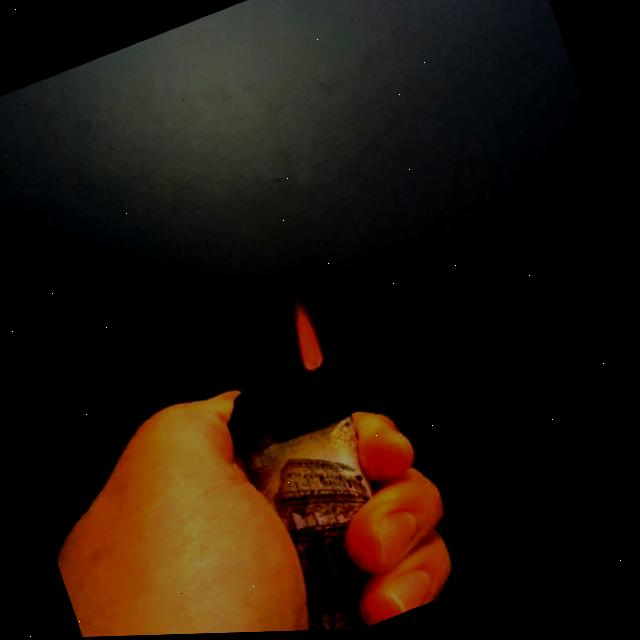Fire: (280, 296, 331, 375)
